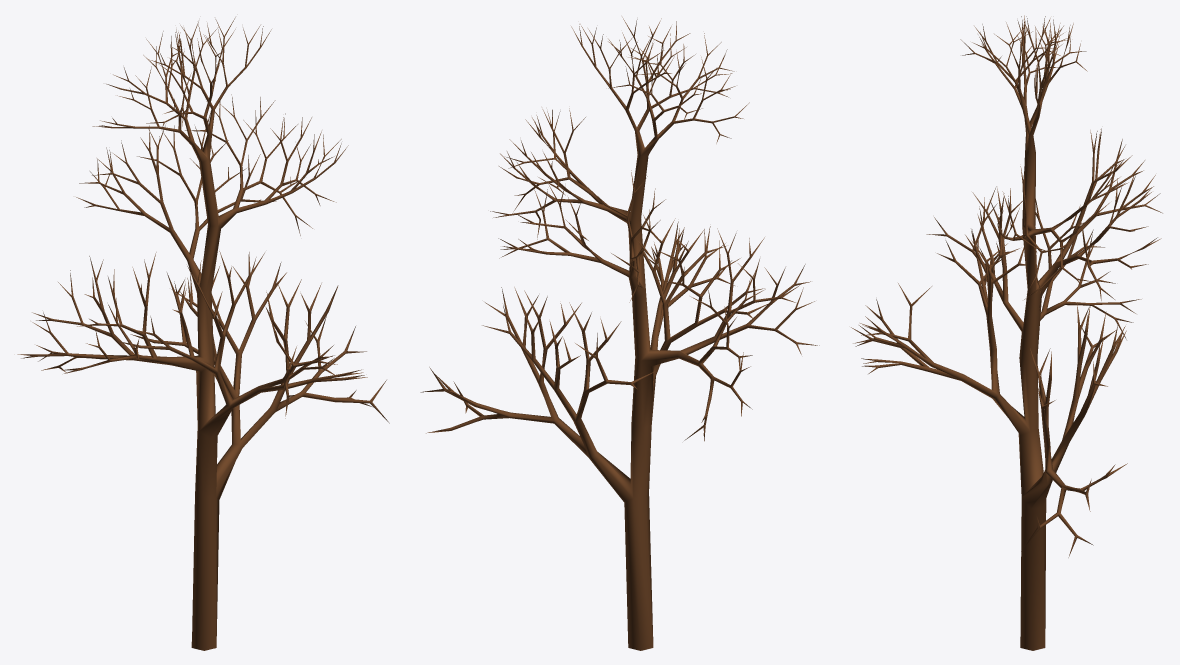
File: tree-big.fbx
The picture shows the model from 3 angles, left to right: view 1: azimuth 30°, elevation 25°; view 2: azimuth 150°, elevation 25°; view 3: azimuth 270°, elevation 25°; orthographic projection.
Parts seen in each view (by area): view 1: Tree3DMesh; view 2: Tree3DMesh; view 3: Tree3DMesh.
Part boxes in pixels (box(x1,y1,x2,y2)): Tree3DMesh: box(17, 17, 389, 650); Tree3DMesh: box(420, 17, 819, 650); Tree3DMesh: box(851, 15, 1162, 650).
Size of the model in its own units: 5163 by 8675 by 3996.
